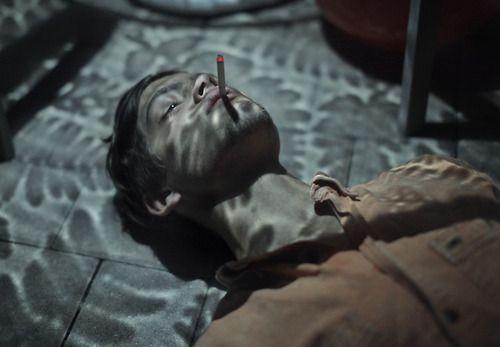cigarette: (217, 55, 226, 97)
